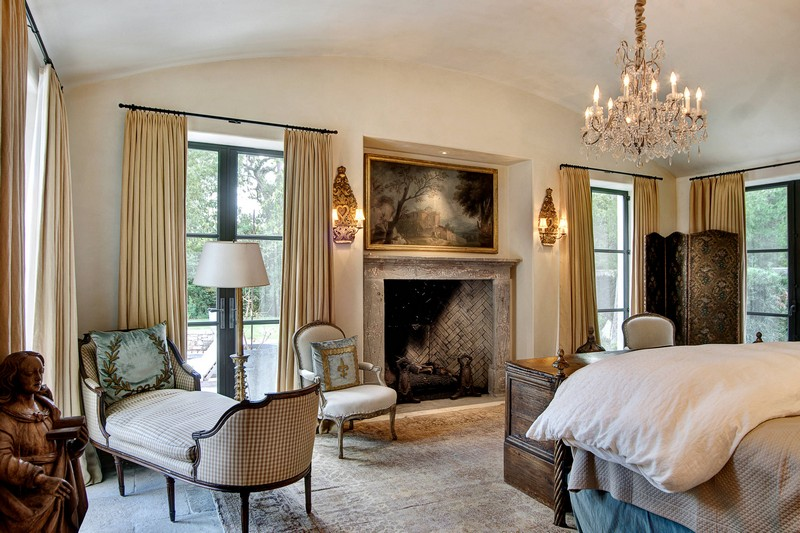bed: (569, 338, 794, 531)
chair: (296, 318, 404, 459)
lamp: (191, 238, 273, 401), (326, 165, 369, 252), (535, 186, 570, 251)
sofa: (77, 323, 319, 518)
